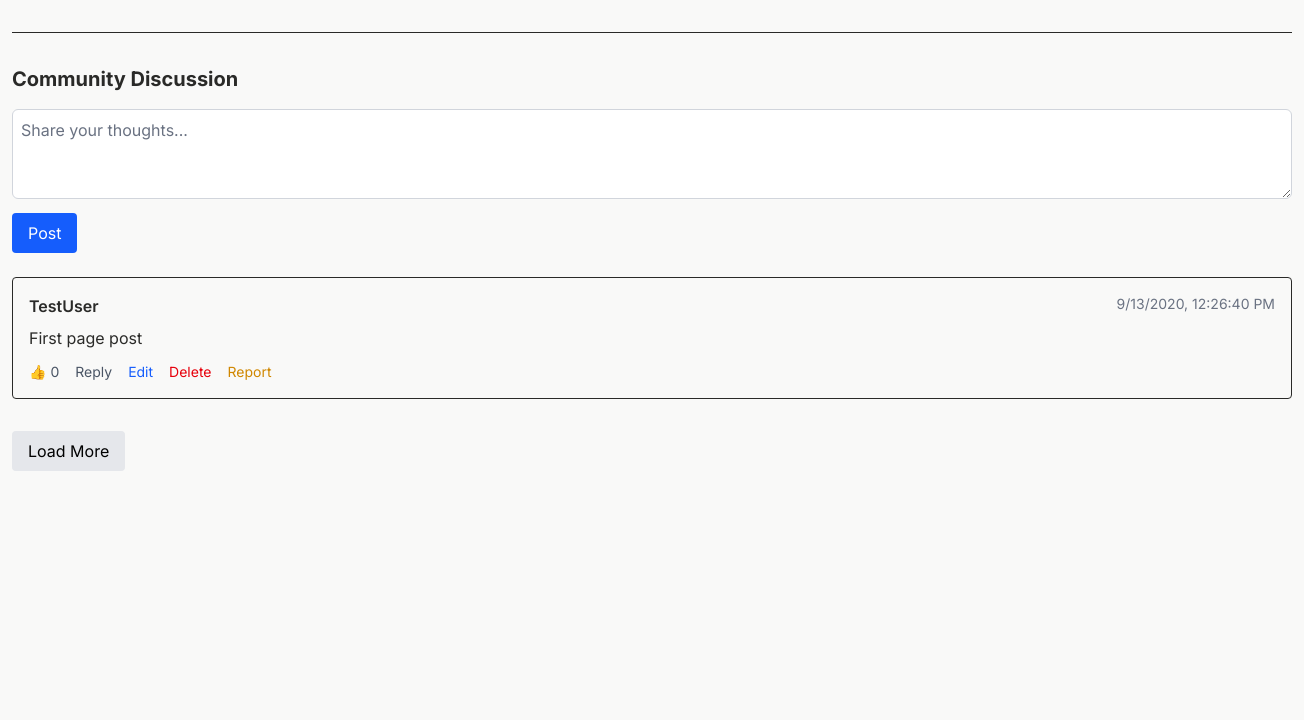
Test case: CommunityDiscussion › overlapping post-list requests › appends the next page once when Load More is clicked twice
Expected: the text "First page post" is shown, [29,328,142,348]
Click the button "Load More": (69,451) [12,431,125,471]
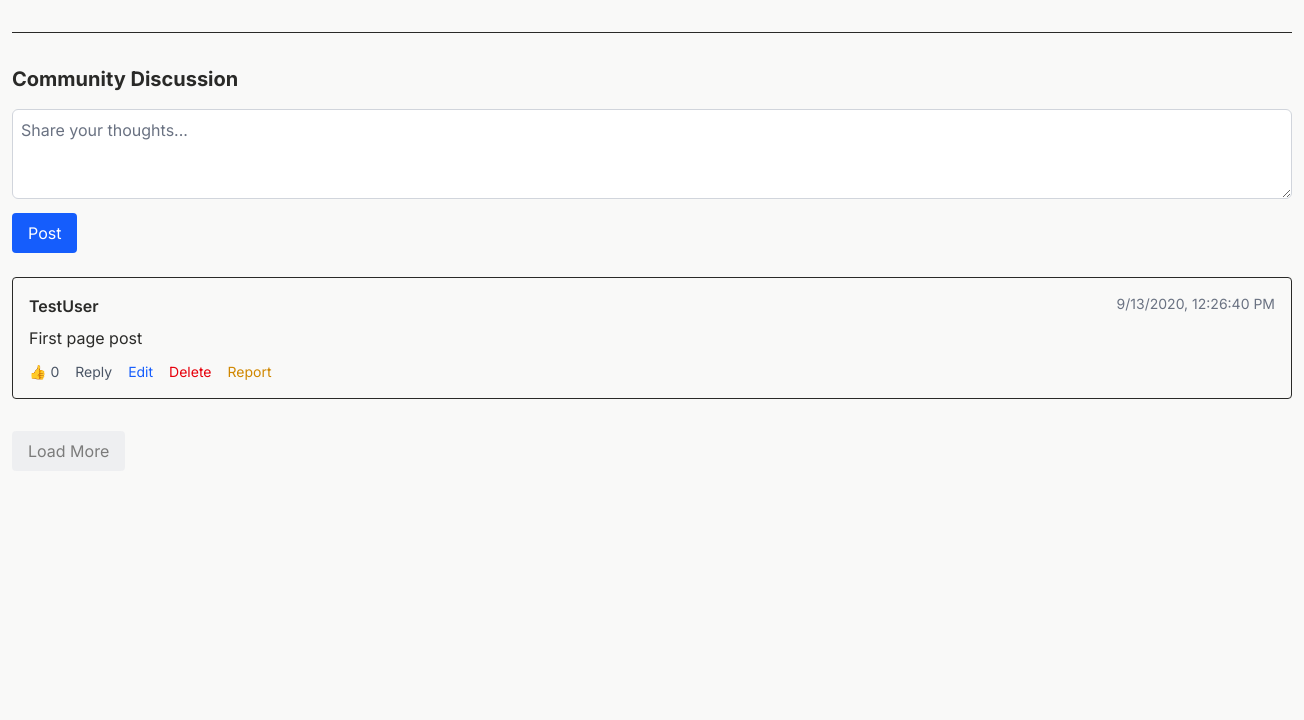
Click the button "Load More": (69,451) [12,431,125,471]
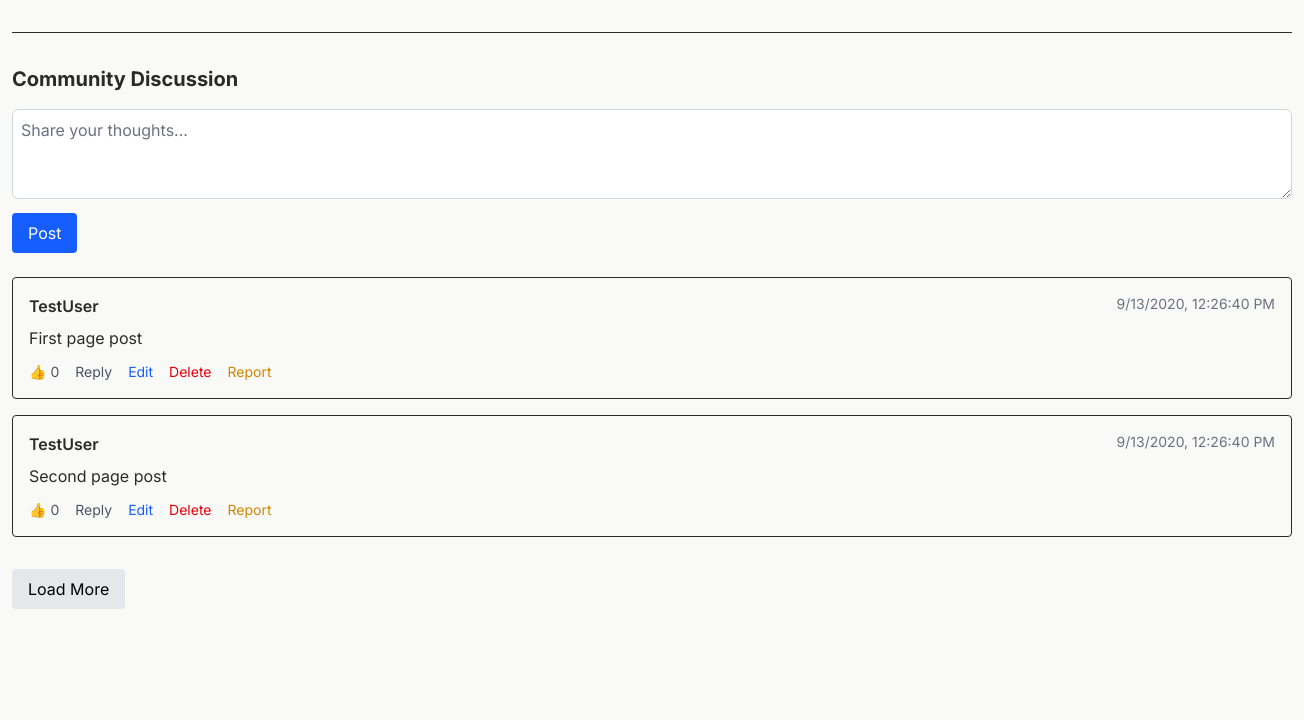
Expected: the text "First page post" is shown once, [29,328,142,348]
Result: the text "Second page post" is shown once at [29,466,167,486]
// Pagination continues from page 2's cursor.
Click the button "Load More": (69,589) [12,569,125,609]
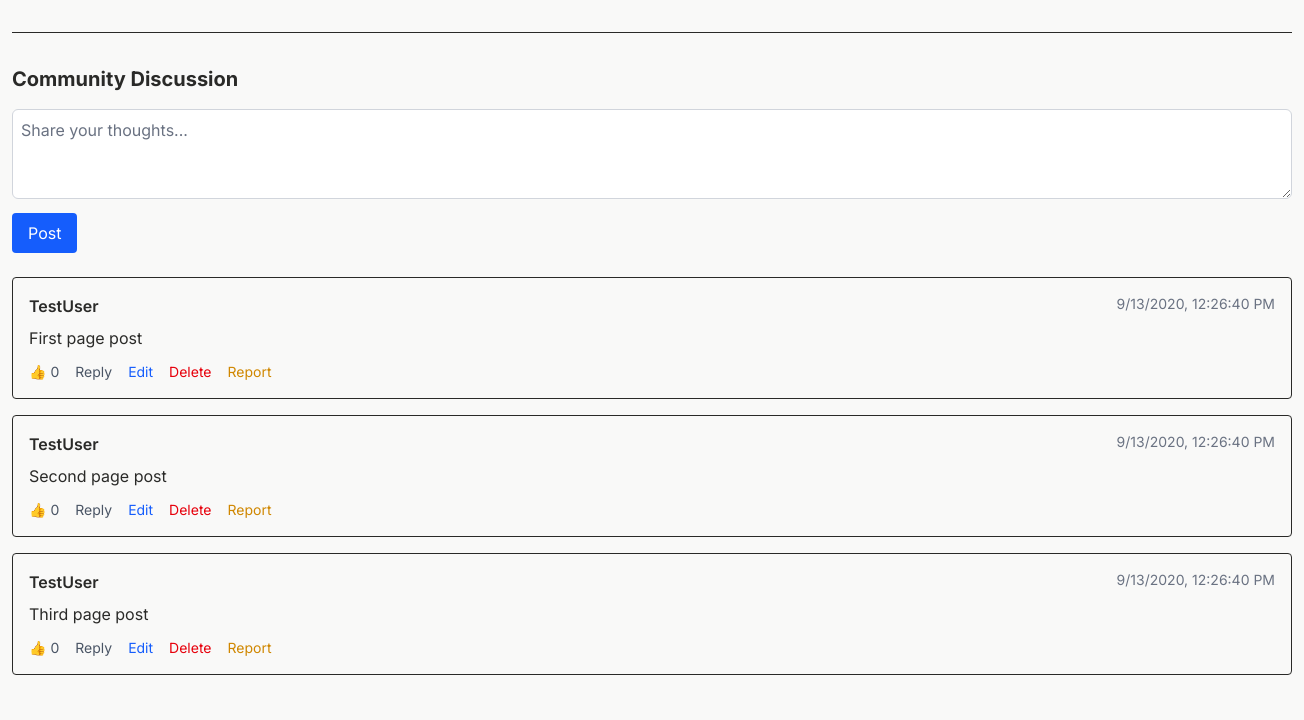
Result: the text "Third page post" is shown at [29,604,148,624]
